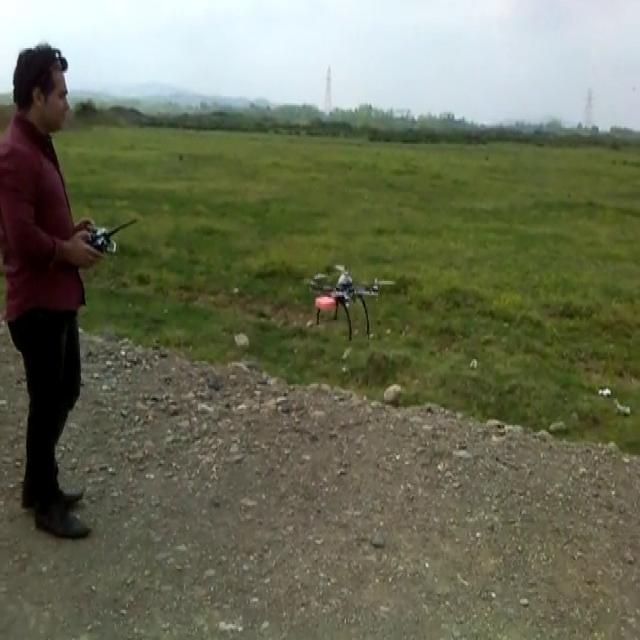drone: (305, 261, 397, 338)
